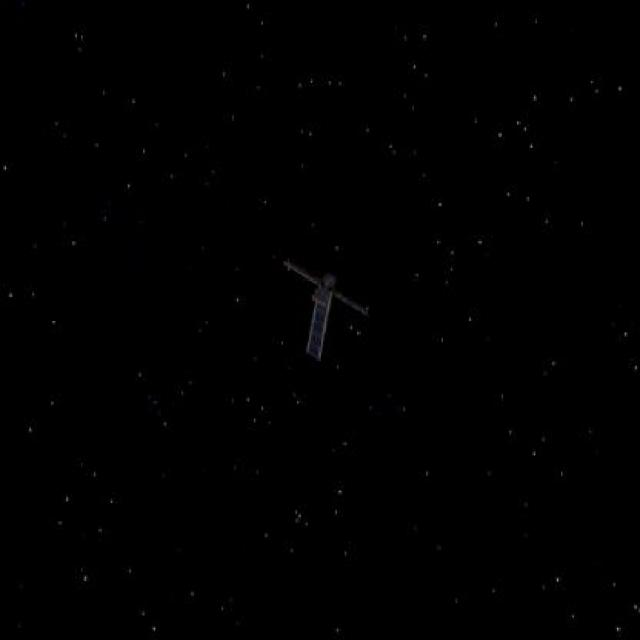satellite: (275, 248, 381, 369)
